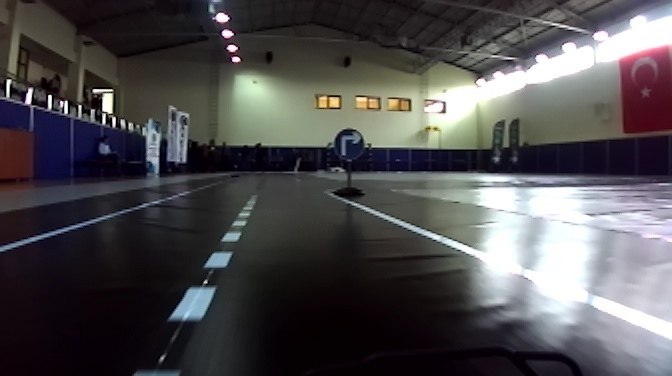saga_donus: (333, 127, 364, 161)
